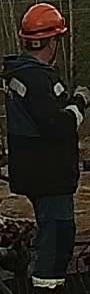gloves: (74, 85, 90, 107)
helmet: (18, 2, 68, 39)
vest: (0, 55, 80, 196)
